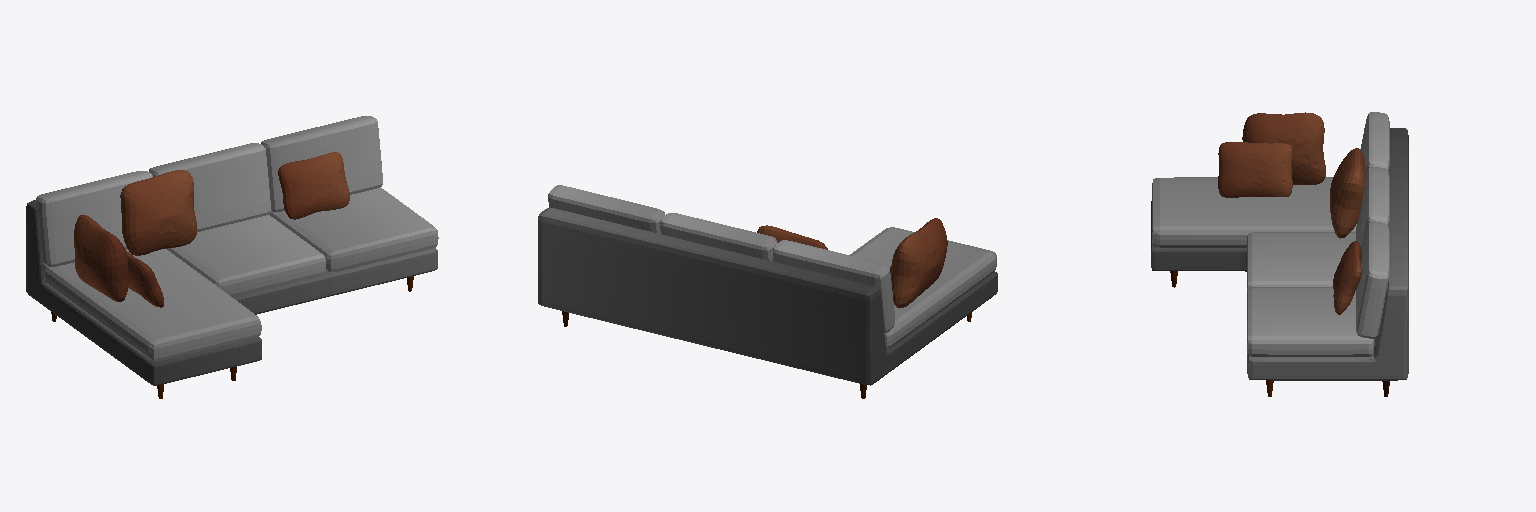
The picture shows the model from 3 angles: view 1: azimuth 30°, elevation 25°; view 2: azimuth 150°, elevation 25°; view 3: azimuth 270°, elevation 25°; orthographic projection.
Visible parts, largest first — view 1: polySurface57; view 2: polySurface57; view 3: polySurface57.
Boxes of the visible parts, x1=… form: polySurface57: x1=26, y1=116, x2=438, y2=398; polySurface57: x1=538, y1=185, x2=997, y2=398; polySurface57: x1=1151, y1=112, x2=1408, y2=396.
Bounding box in the file's own units: 5 × 1.91 × 3.3.
Materials: 1 (1 with a texture image).